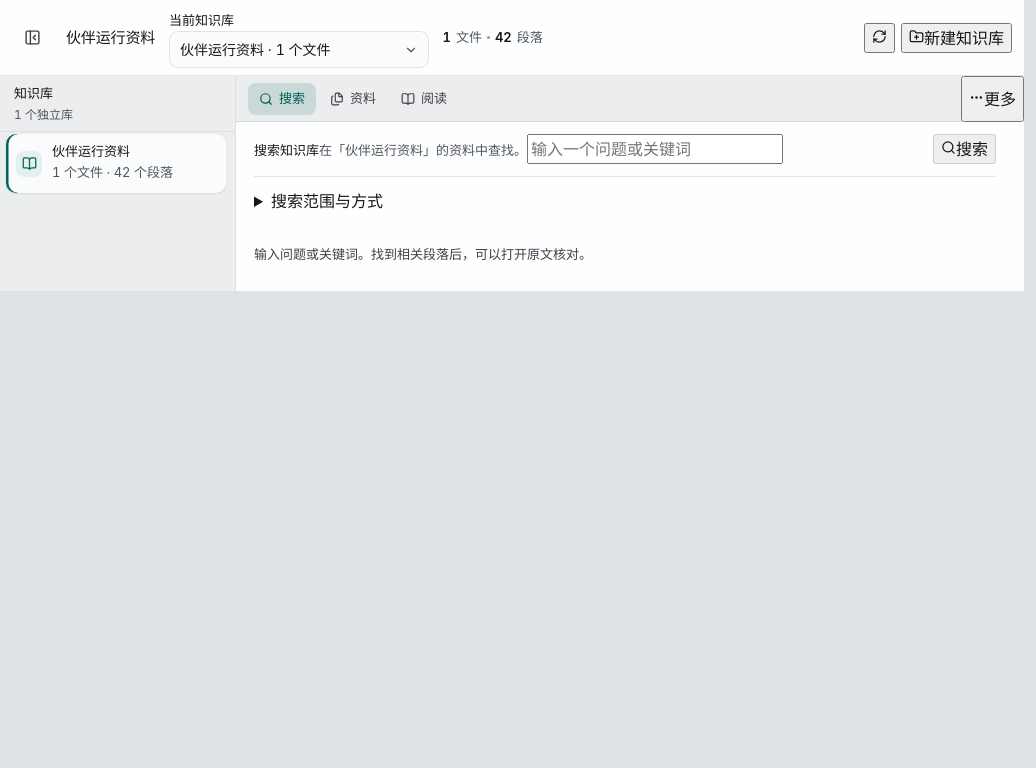
it: document knowledge library › returns to the selected search result without searching again (route remount: false)
Step 1. Type "工具如何注册" into the field labelled "搜索知识库" → (655, 149), box [527, 134, 783, 164]
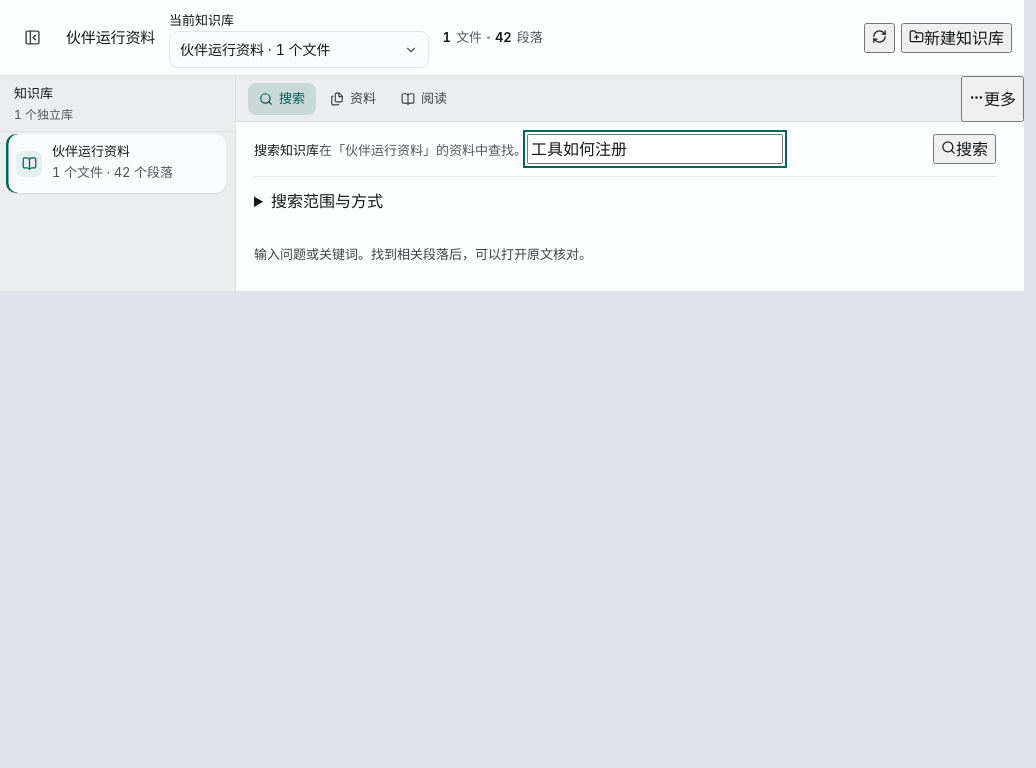
Step 2. Click the button "搜索" → (964, 149), box [933, 134, 996, 164]
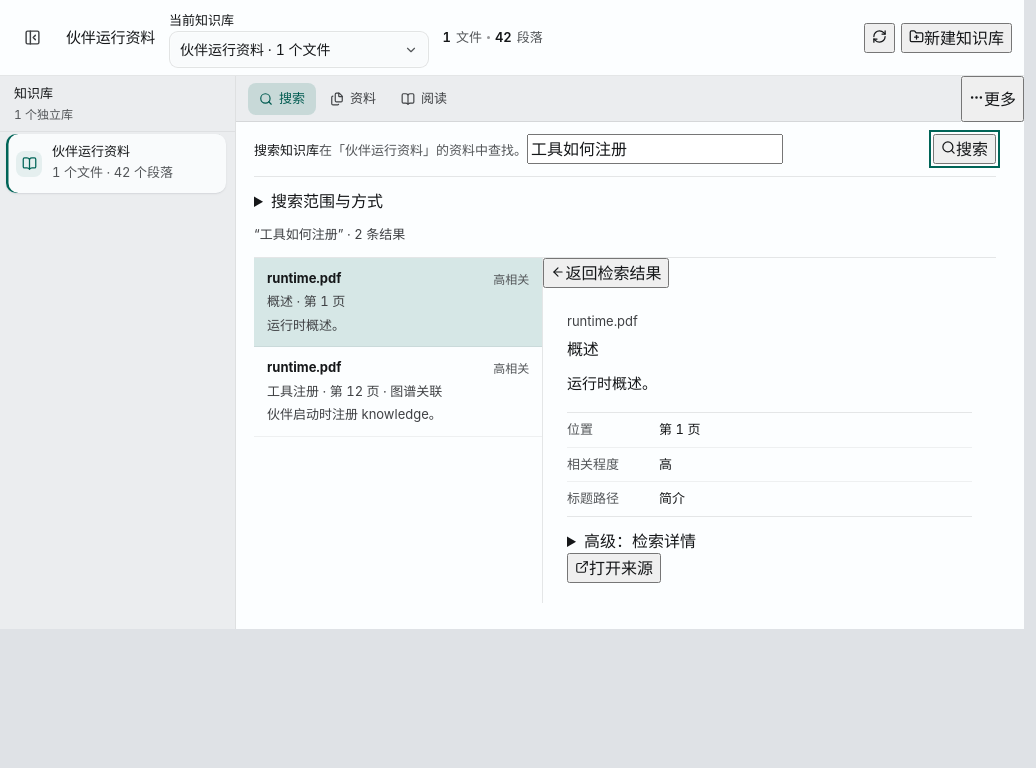
Step 3. Click the option "runtime.pdf 工具注册 · 第 12 页 · 图谱关联 伙伴启动时注册 knowledge。 高相关" → (398, 392), box [254, 347, 542, 436]
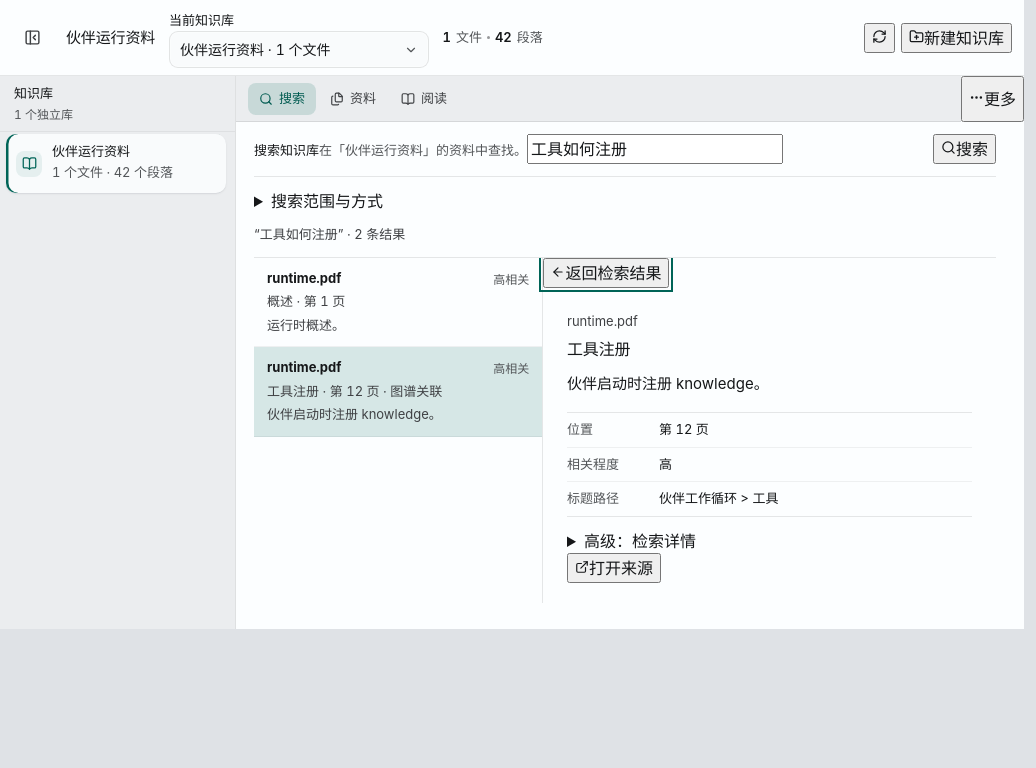
Step 4. Type "，只看运行时" into the field labelled "搜索知识库" → (655, 149), box [527, 134, 783, 164]
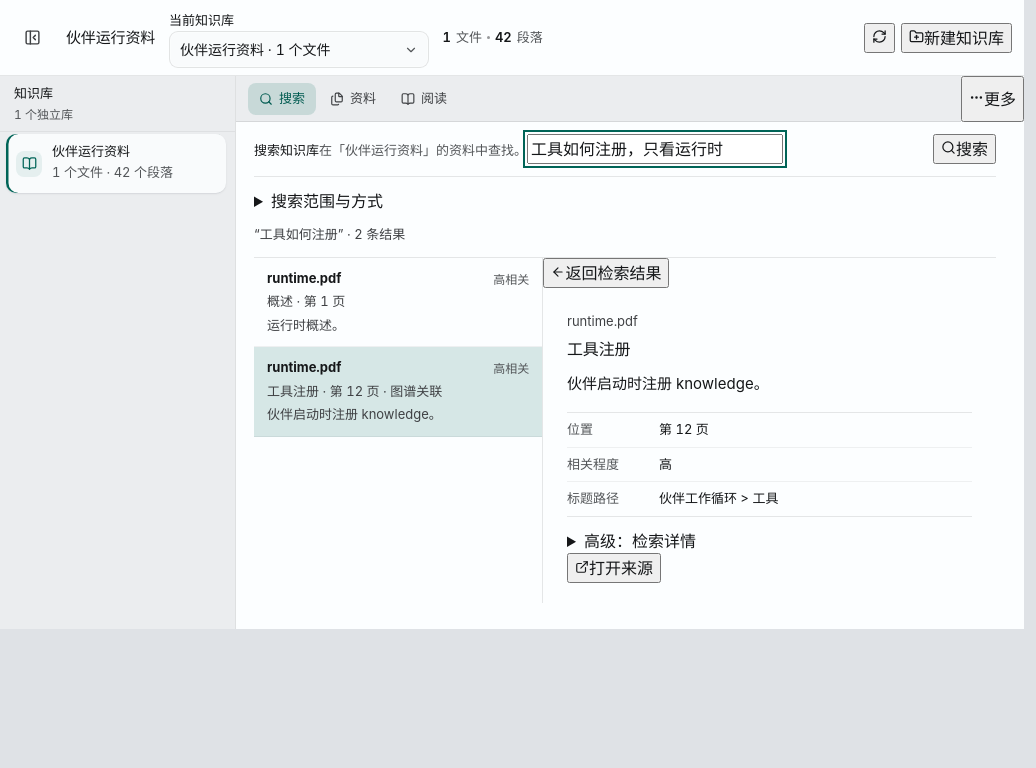
Step 5. Click the button "打开来源" → (614, 568), box [567, 552, 661, 582]
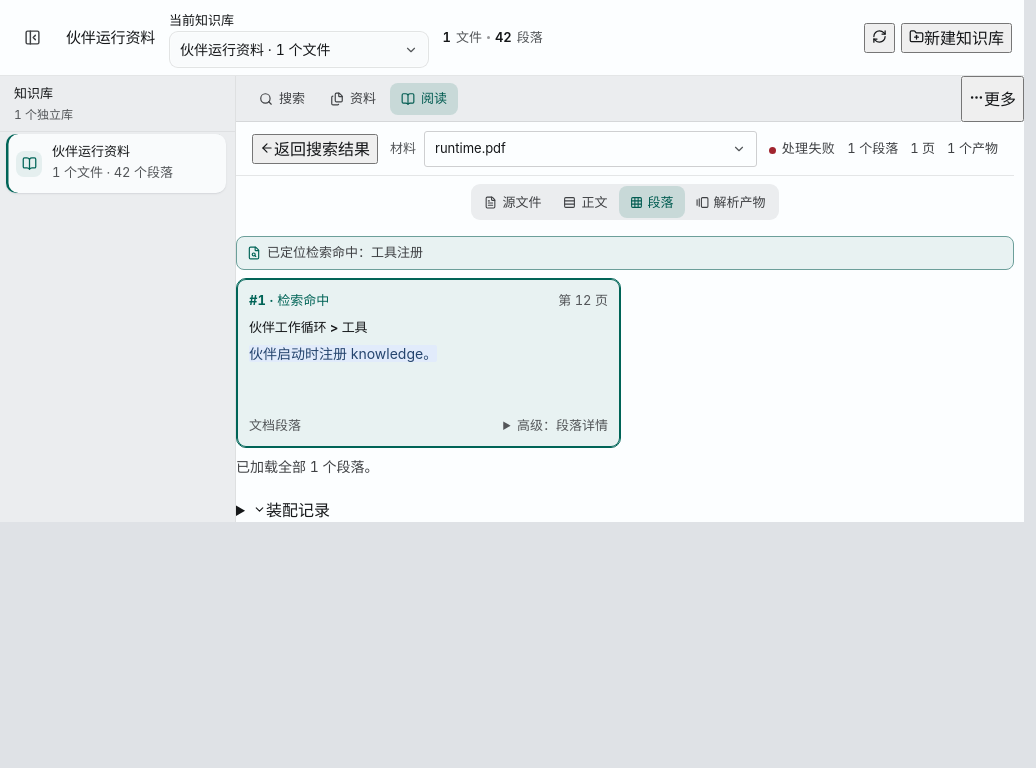
Expected: the text "已定位检索命中：工具注册" is shown, [267, 243, 423, 263]
Step 6. Click the button "返回搜索结果" → (315, 148), box [252, 134, 378, 164]
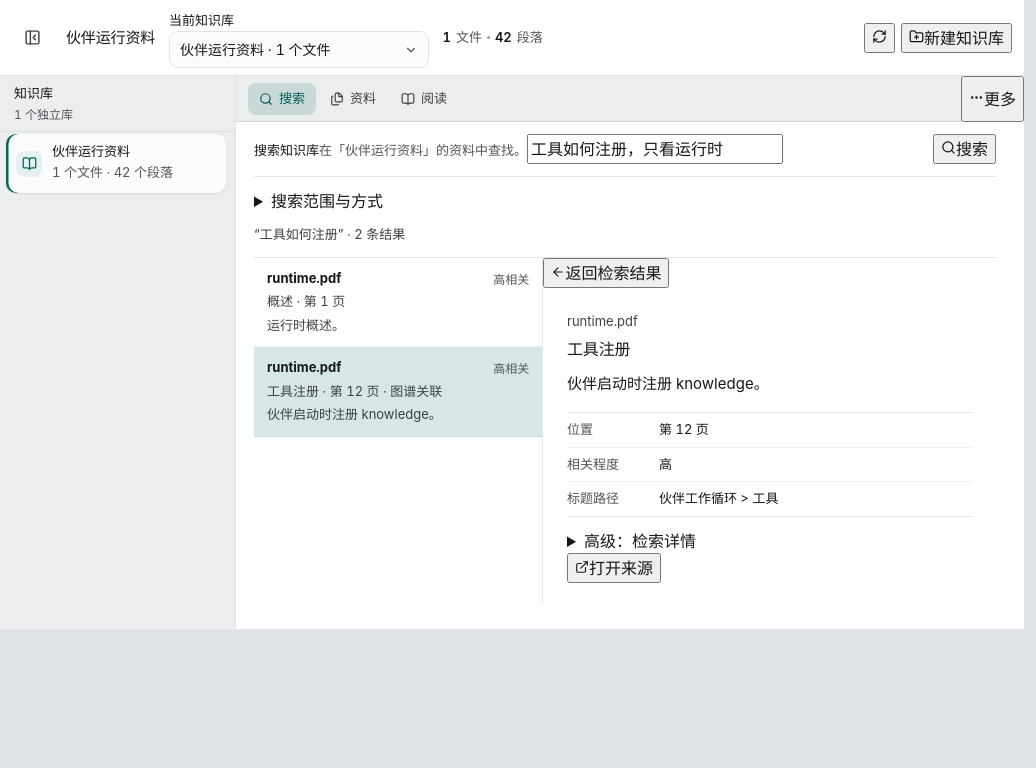
Expected: the field labelled "搜索知识库" holds "工具如何注册，只看运行时", [527, 134, 783, 164]
Expected: the option "runtime.pdf 工具注册 · 第 12 页 · 图谱关联 伙伴启动时注册 knowledge。 高相关" is shown, [254, 347, 542, 436]
Expected: the number of options is 2, [254, 258, 542, 347]; [254, 347, 542, 436]
